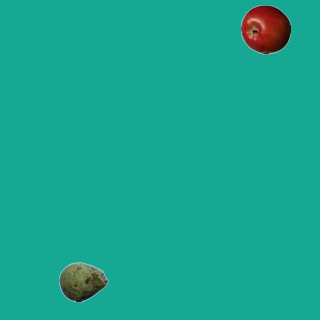Apple Braeburn: (240, 4, 290, 54)
Pear Stone: (58, 257, 108, 307)
